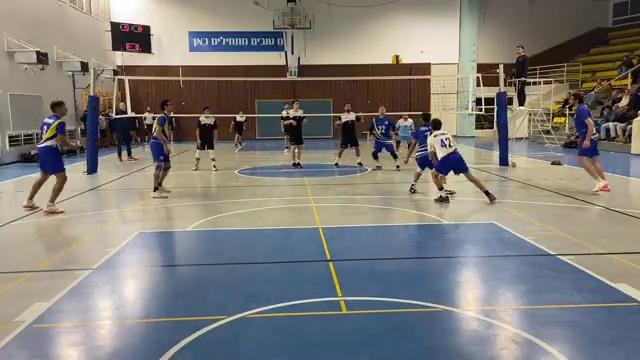ball: (392, 54, 405, 70)
